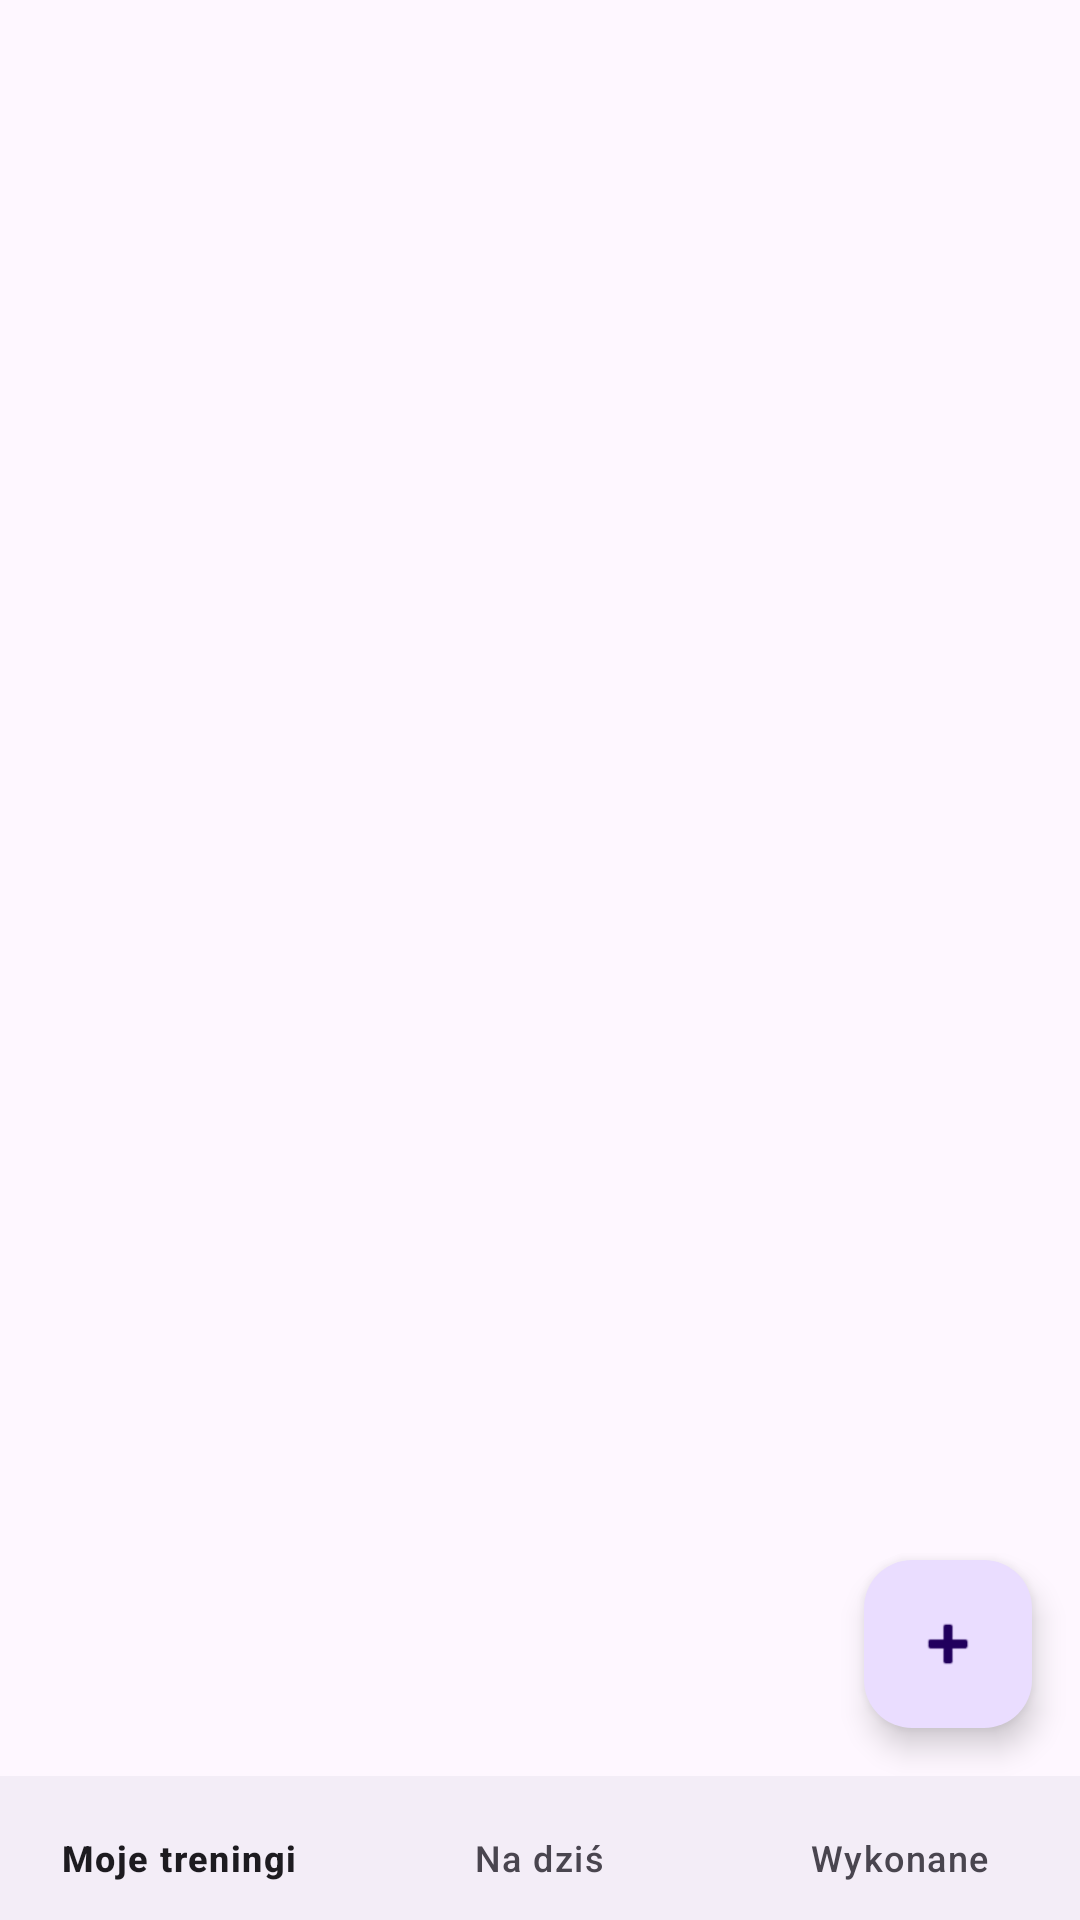

Screen size 1080×1920. Icon name, then its box in pixels as (x1, y1, x2, y2):
add: (864, 1560, 1032, 1728)
